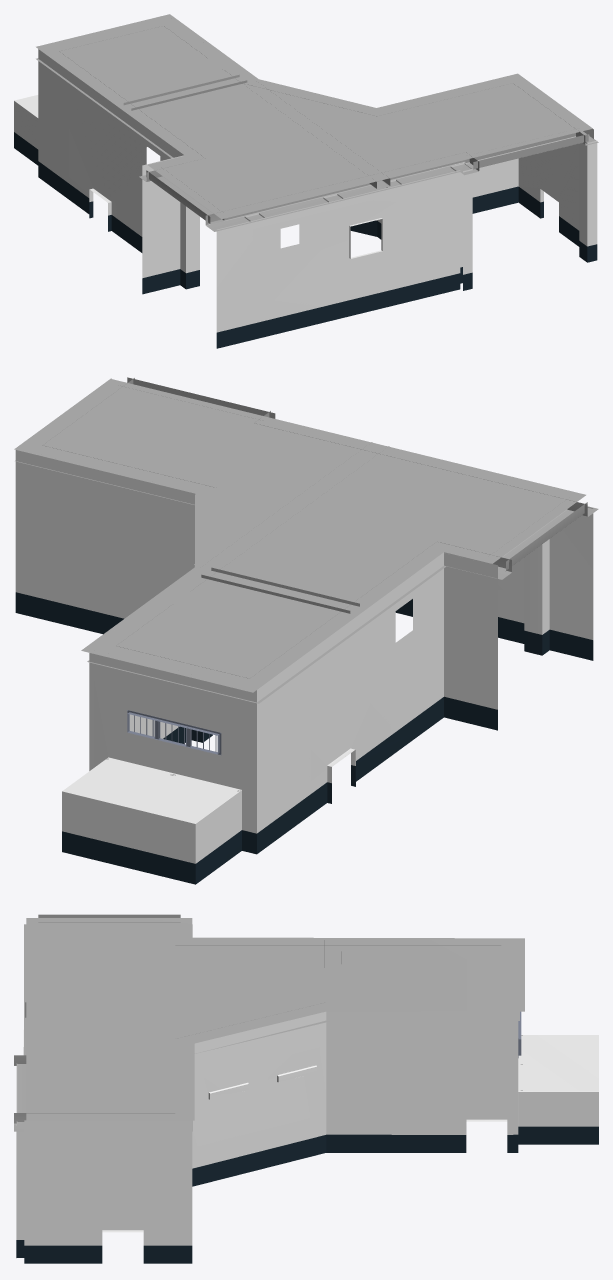
File: SM_H_Building_Tide_Corridor_02_ATLAS.fbx
3 views of the same model, one above another, from view 1: azimuth 30°, elevation 25°; view 2: azimuth 150°, elevation 25°; view 3: azimuth 270°, elevation 25° (orthographic). The views are drawn at different scales.
Visible parts, largest first — view 1: SM_H_Building_Tide_Corridor_02_ATLAS; view 2: SM_H_Building_Tide_Corridor_02_ATLAS; view 3: SM_H_Building_Tide_Corridor_02_ATLAS.
Part boxes in pixels (x1=…): SM_H_Building_Tide_Corridor_02_ATLAS: x1=14, y1=14, x2=598, y2=348; SM_H_Building_Tide_Corridor_02_ATLAS: x1=14, y1=377, x2=598, y2=884; SM_H_Building_Tide_Corridor_02_ATLAS: x1=14, y1=914, x2=598, y2=1263.
Bounding box in the file's own units: 3448 × 4083 × 1123.
